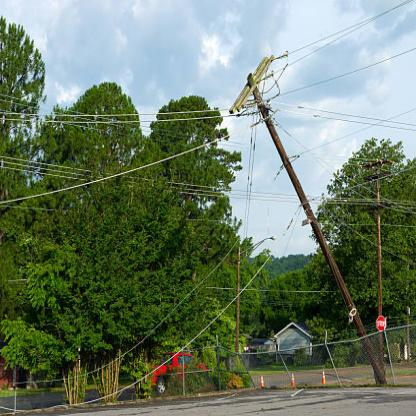Electrical Pole: (225, 40, 406, 403)
